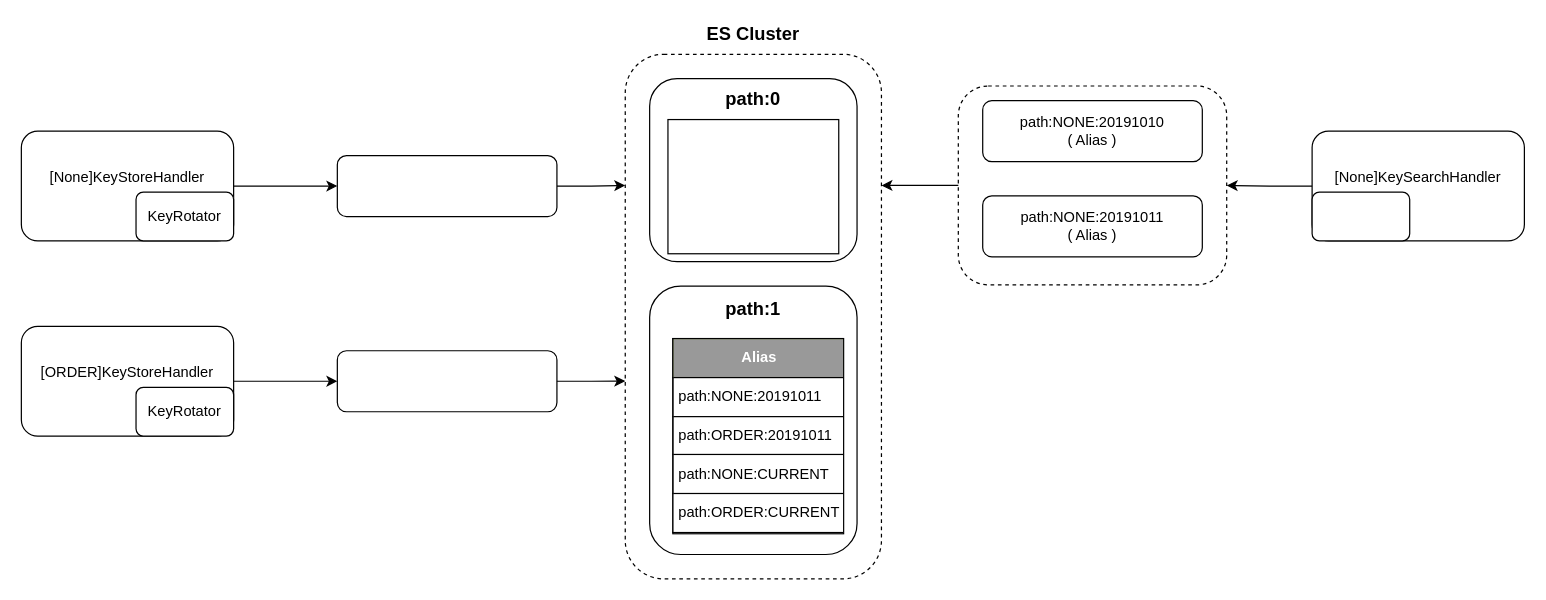
Image size: 1546x600. Some labels were removed from this diagram. The centre of each missing label's shape, as x and y in pixels:
Alias path:NONE:20191010 path:ORDER:20191010: point 753,186
IndexSelector: point 1360,216
path:NONE:CURRENT ( Alias ): point 446,185
path:ORDER:CURRENT ( Alias ): point 446,381
